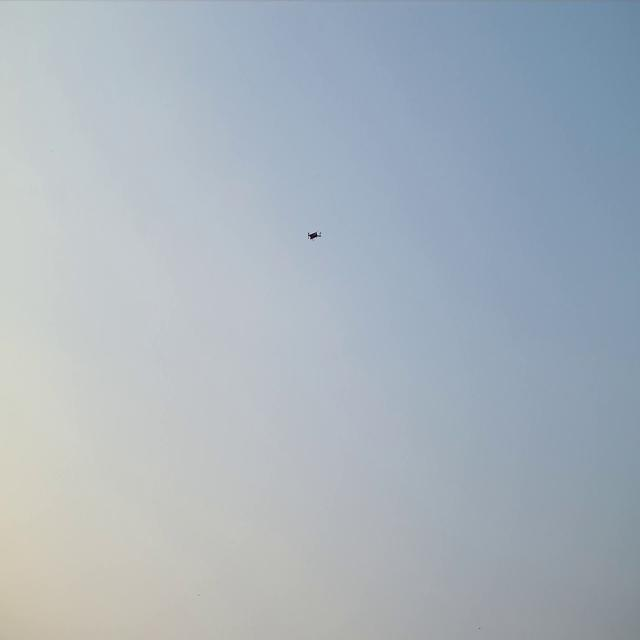UAV: (306, 229, 324, 243)
